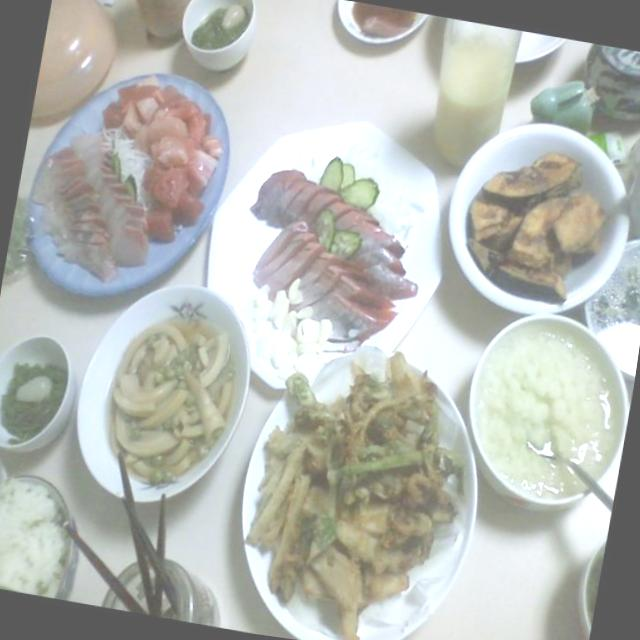Rice: (0, 465, 80, 594)
